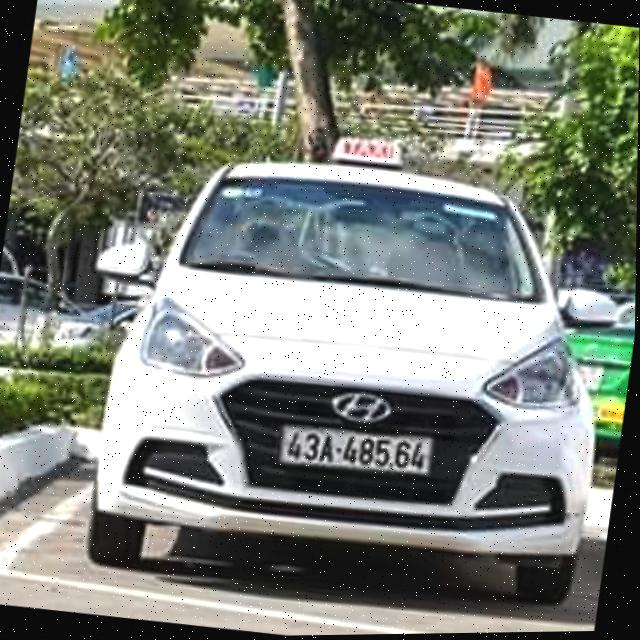car: (52, 123, 635, 630)
plate: (268, 410, 441, 489)
